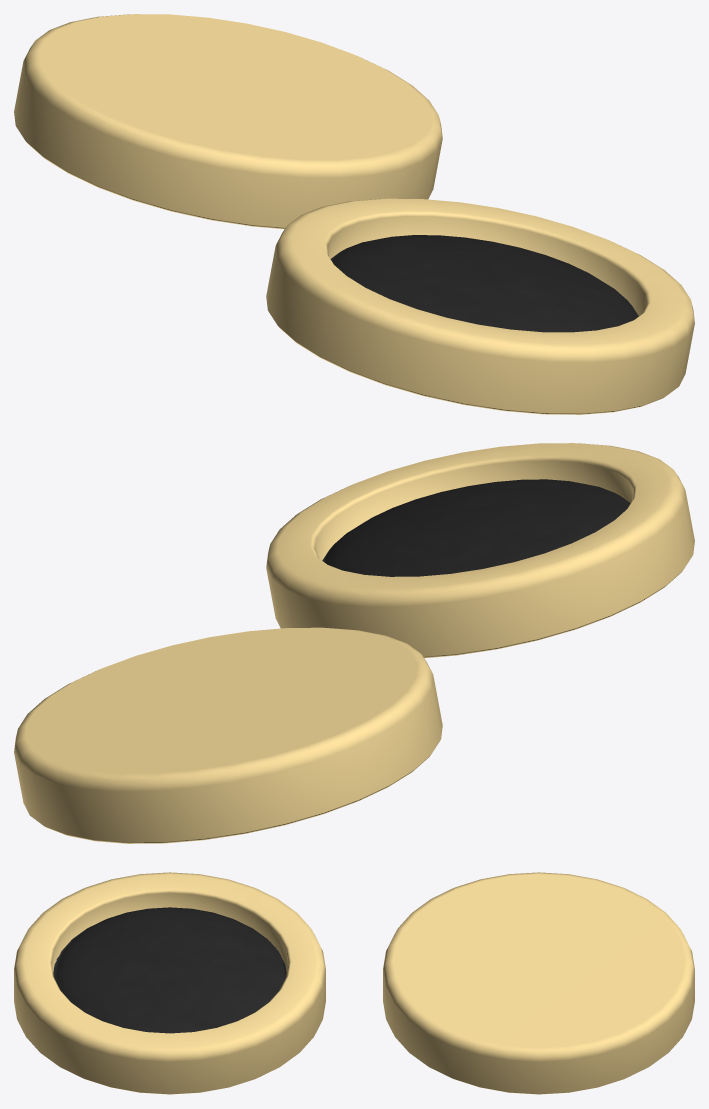
The picture shows the model from 3 angles, top to bottom: view 1: azimuth 30°, elevation 25°; view 2: azimuth 150°, elevation 25°; view 3: azimuth 270°, elevation 25°; orthographic projection. The views are drawn at different scales.
Parts seen in each view (by area): view 1: pip2.001, pip.001; view 2: pip.001, pip2.001; view 3: pip2.001, pip.001.
Part boxes in pixels (box(x1,y1,x2,y2)): pip2.001: box(266, 198, 694, 414); pip.001: box(14, 14, 442, 229); pip.001: box(14, 627, 442, 843); pip2.001: box(266, 443, 694, 658); pip2.001: box(14, 872, 325, 1094); pip.001: box(383, 872, 694, 1094).
Size of the model in its own units: 201 by 71.07 by 437.
Materials: 1 (1 with a texture image).
